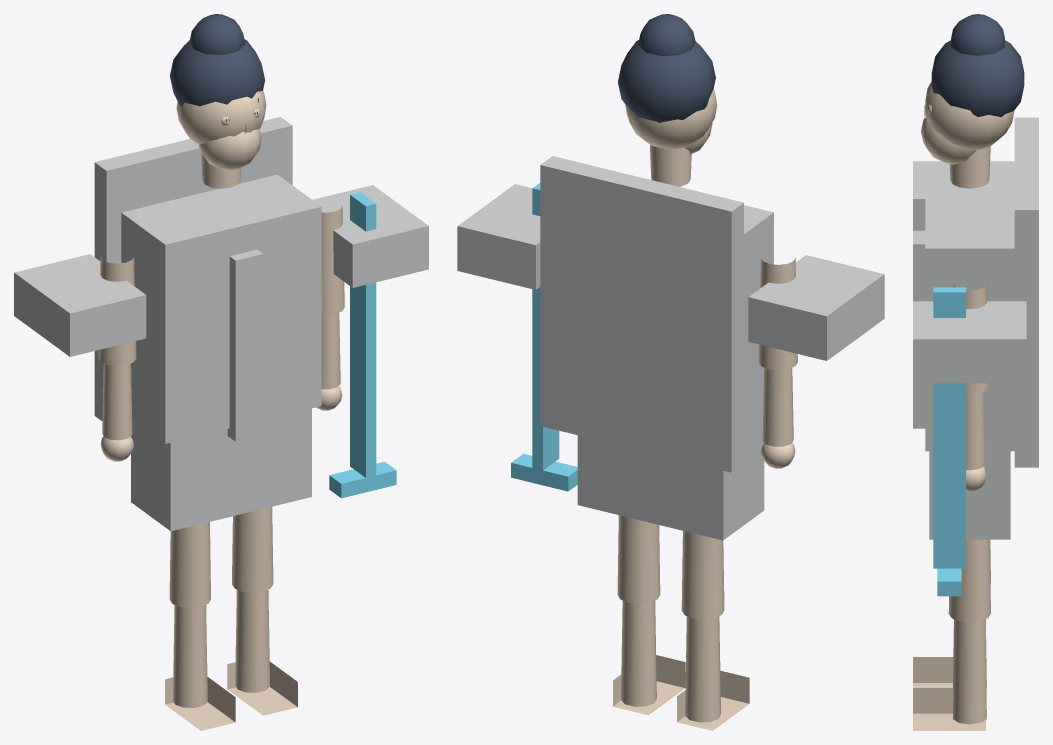
Rendered from body.glb.
3 renders of one model, left to right at view 1: azimuth 30°, elevation 25°; view 2: azimuth 150°, elevation 25°; view 3: azimuth 270°, elevation 25°, orthographic. The views are drawn at different scales.
Visible parts, largest first — view 1: Cloth, Skin, Metal, Hair; view 2: Cloth, Skin, Hair, Metal; view 3: Cloth, Skin, Metal, Hair.
Part boxes in pixels (x1,y1,x2,y2): Cloth: (14, 117, 428, 531); Skin: (98, 91, 344, 730); Metal: (329, 192, 396, 498); Hair: (170, 14, 264, 106); Cloth: (457, 156, 884, 540); Skin: (613, 88, 797, 730); Hair: (618, 14, 715, 122); Metal: (511, 183, 577, 491); Cloth: (913, 117, 1038, 539); Skin: (913, 81, 1014, 730); Metal: (933, 287, 965, 596); Hair: (931, 14, 1024, 116).
Size of the model in its own units: 1.04 by 1.87 by 0.31.
